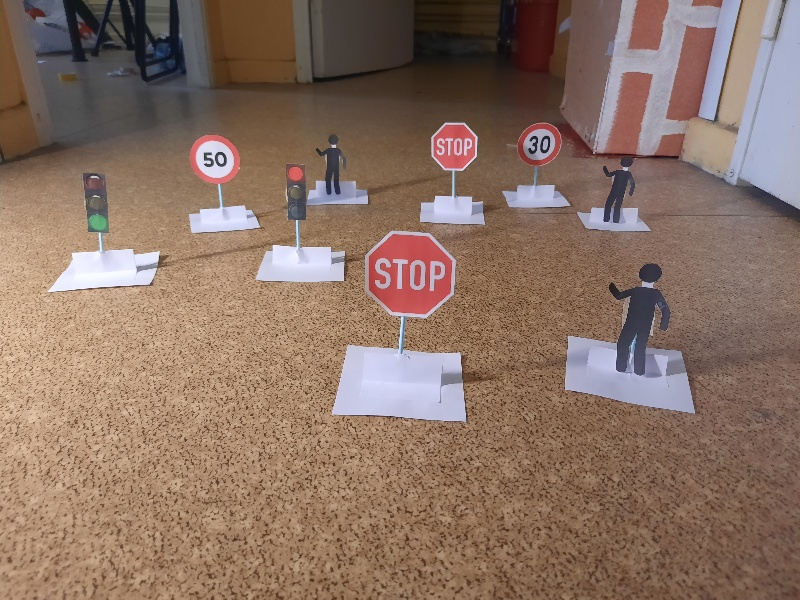Green: (81, 174, 114, 232)
Limit 30: (517, 122, 560, 165)
Limit 50: (188, 137, 239, 185)
Person: (609, 266, 673, 371), (600, 154, 637, 225), (315, 135, 349, 194)
Red: (284, 163, 307, 223)
Stop: (362, 231, 455, 316), (431, 121, 479, 172)
